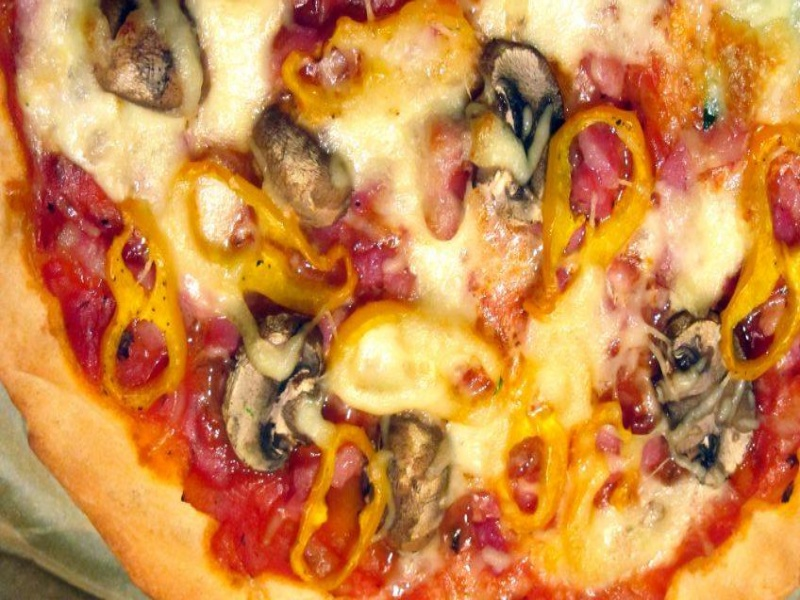champignon: (645, 310, 761, 491), (480, 30, 574, 225), (217, 310, 326, 470)
